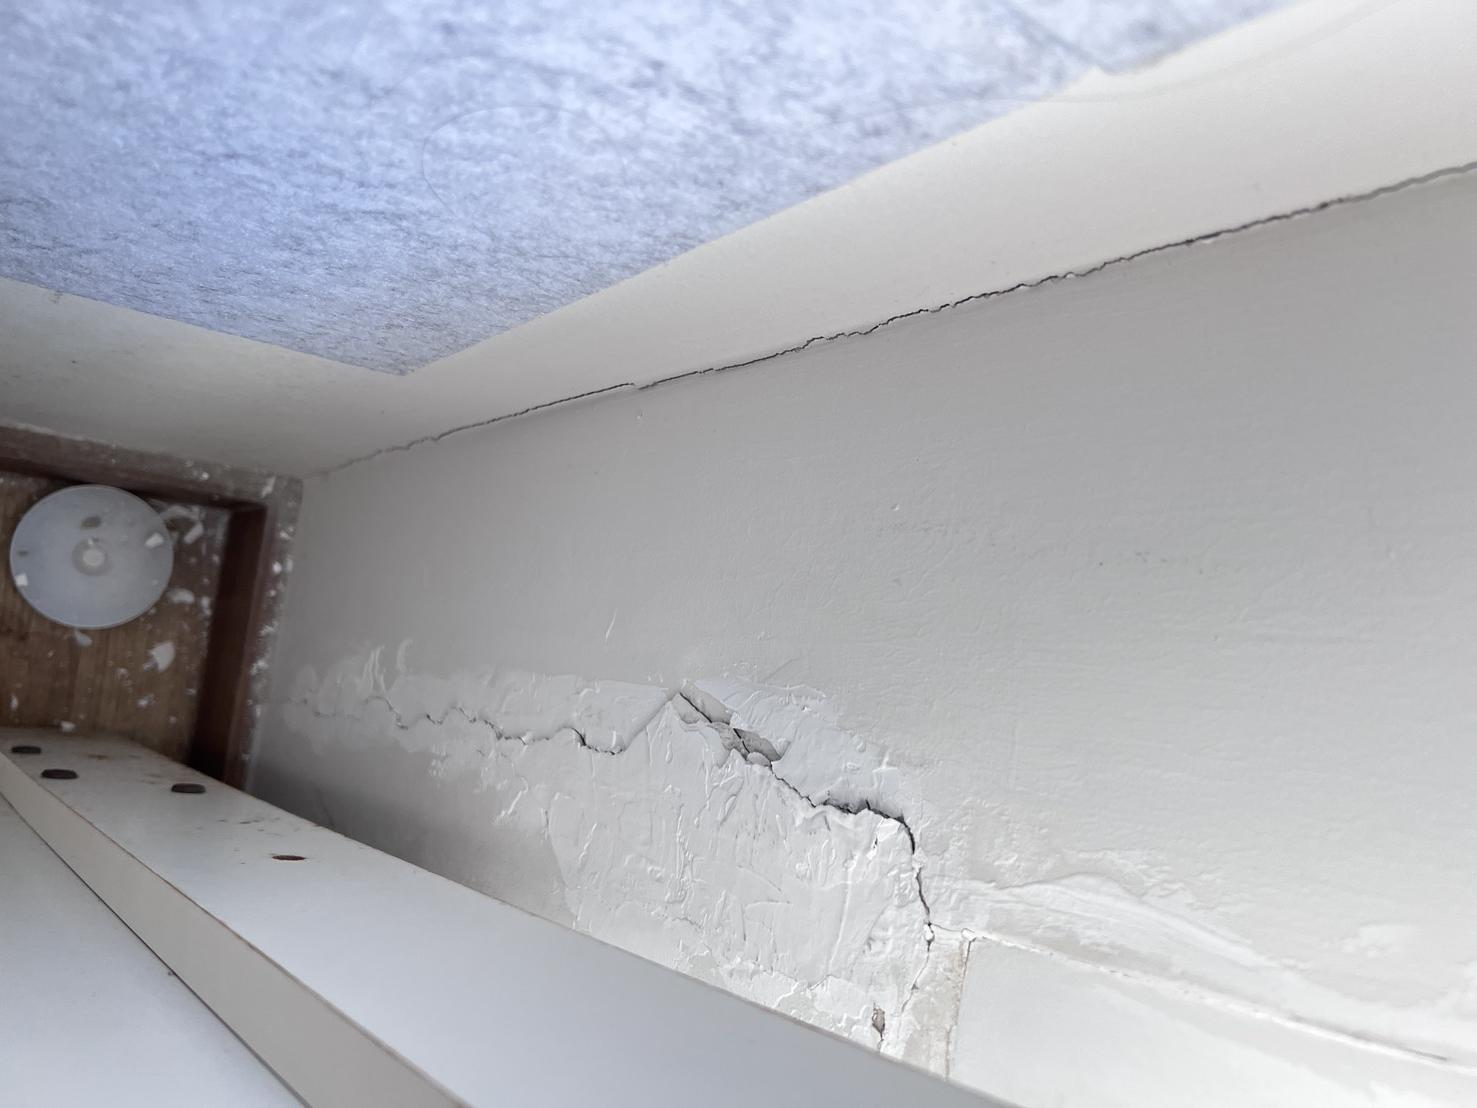Low: (219, 623, 945, 963)
